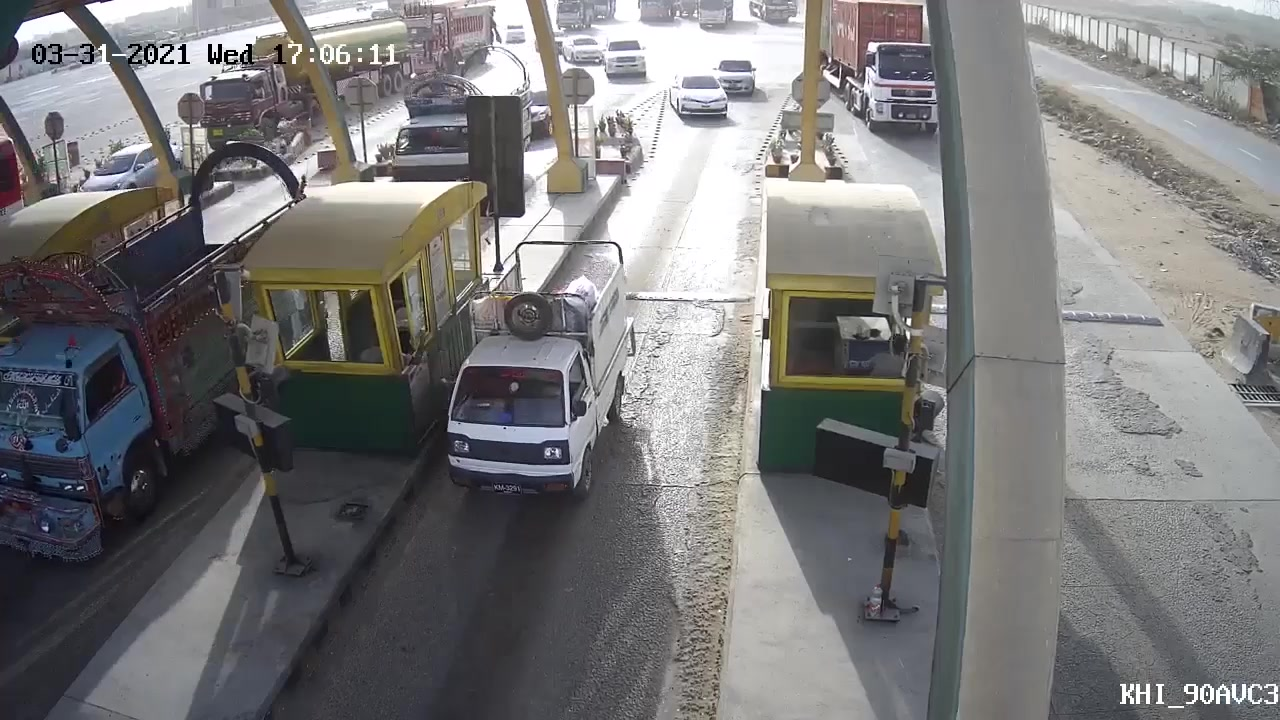F1: (439, 238, 630, 507)
